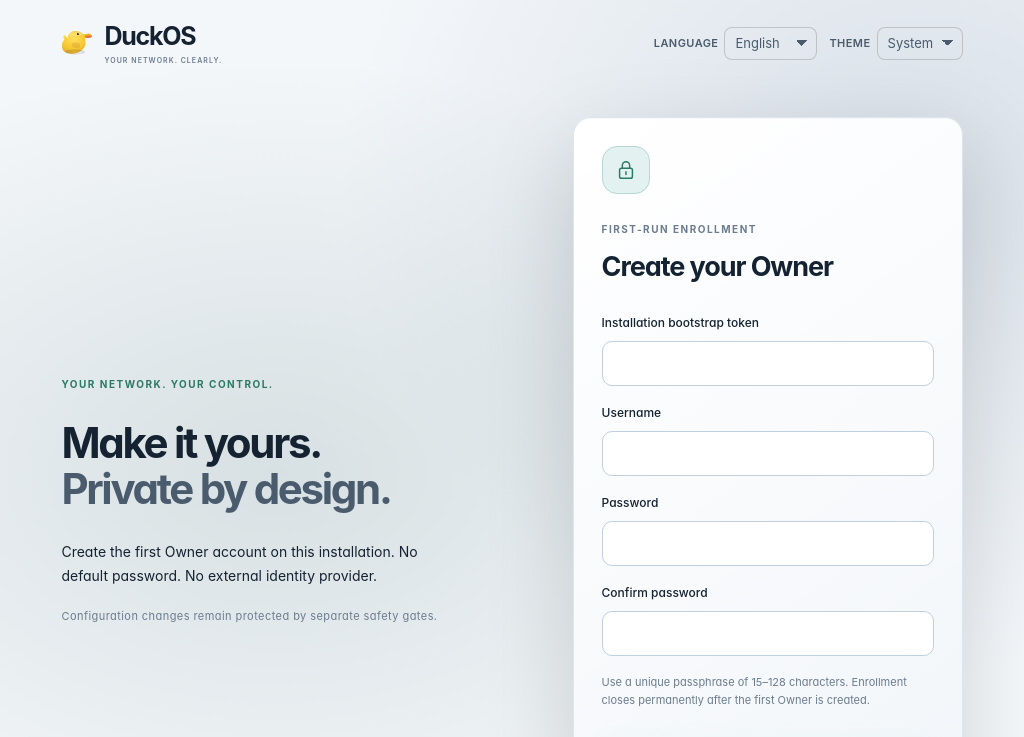
local identity › does not submit mismatched enrollment passwords
Type "Synthetic UI password 42!" into the password field labelled "Password". click: (768, 544)
box: [602, 521, 934, 566]
(page scrolled)
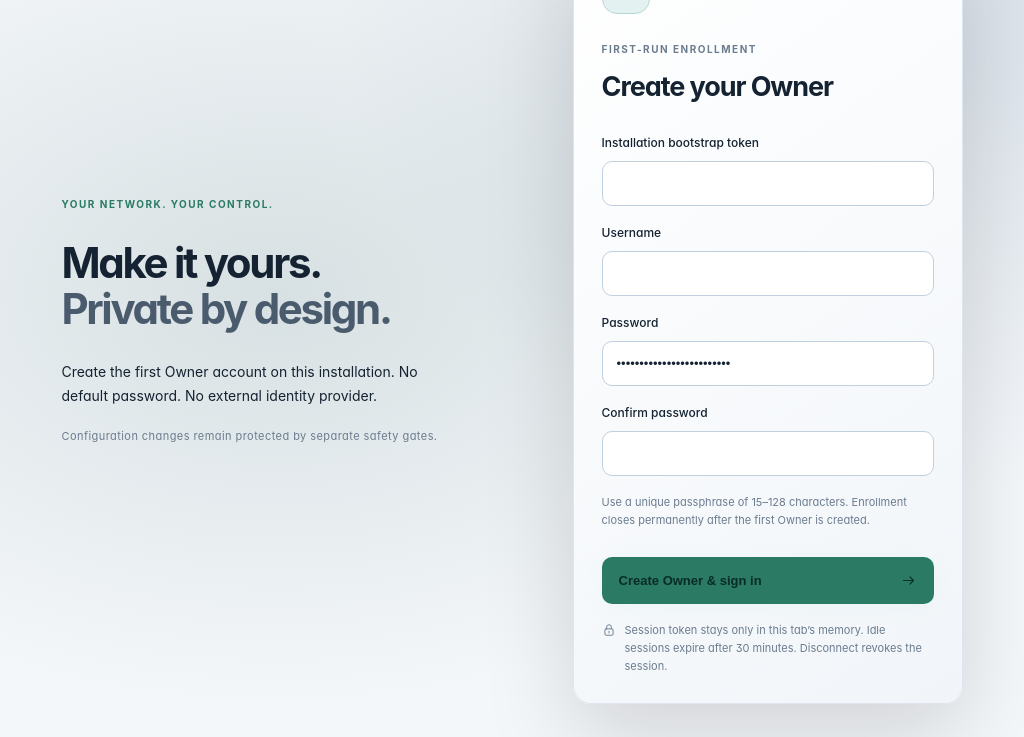
Submit the form named "Create Owner", box [602, 134, 934, 604]
(page scrolled)
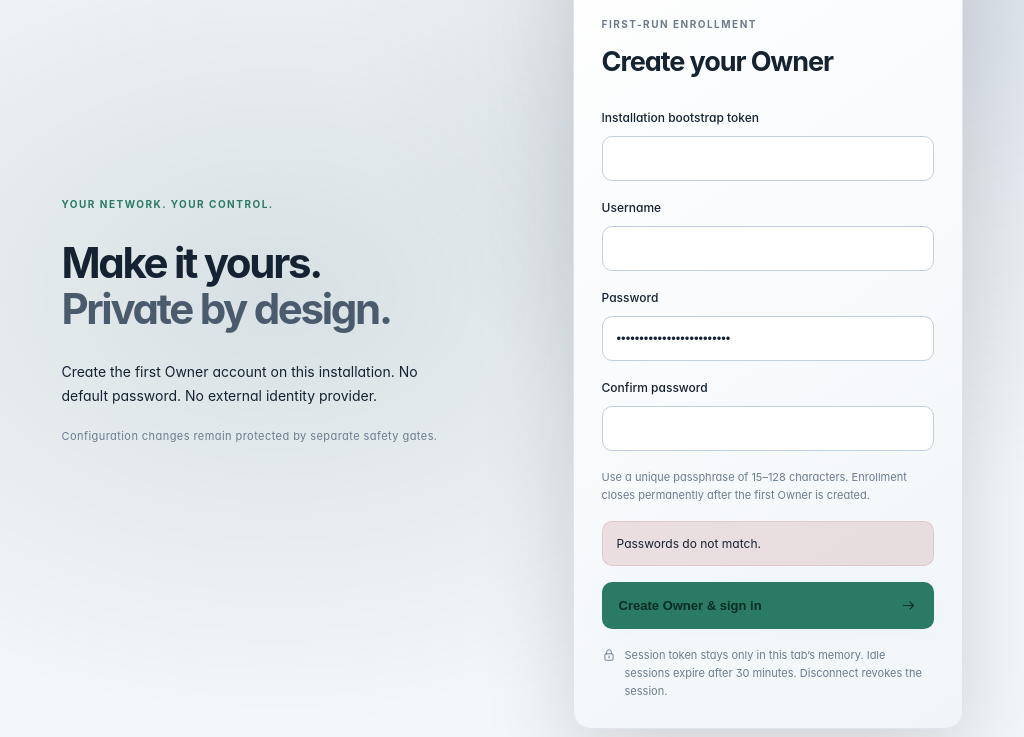
Check: the message shows "Passwords do not match", box [617, 536, 761, 551]
